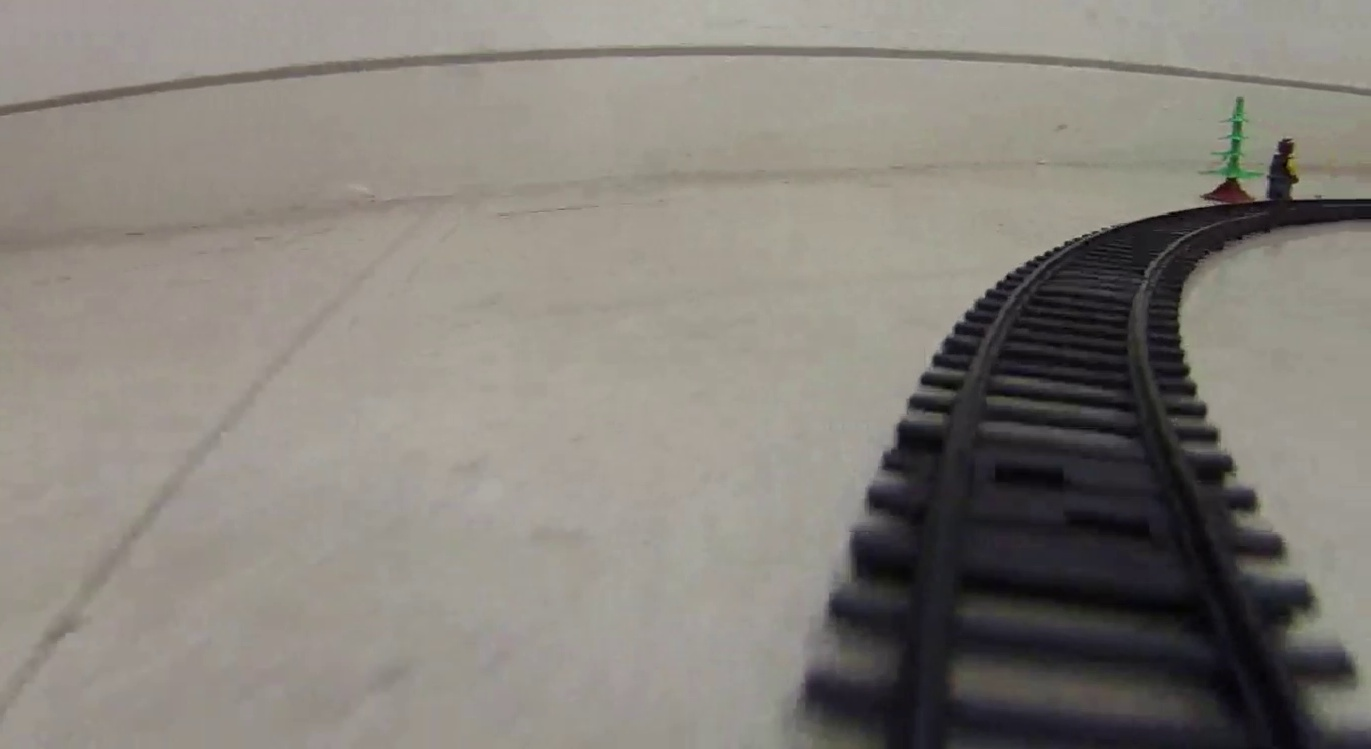people: (1267, 138, 1302, 198)
tree: (1202, 91, 1264, 200)
